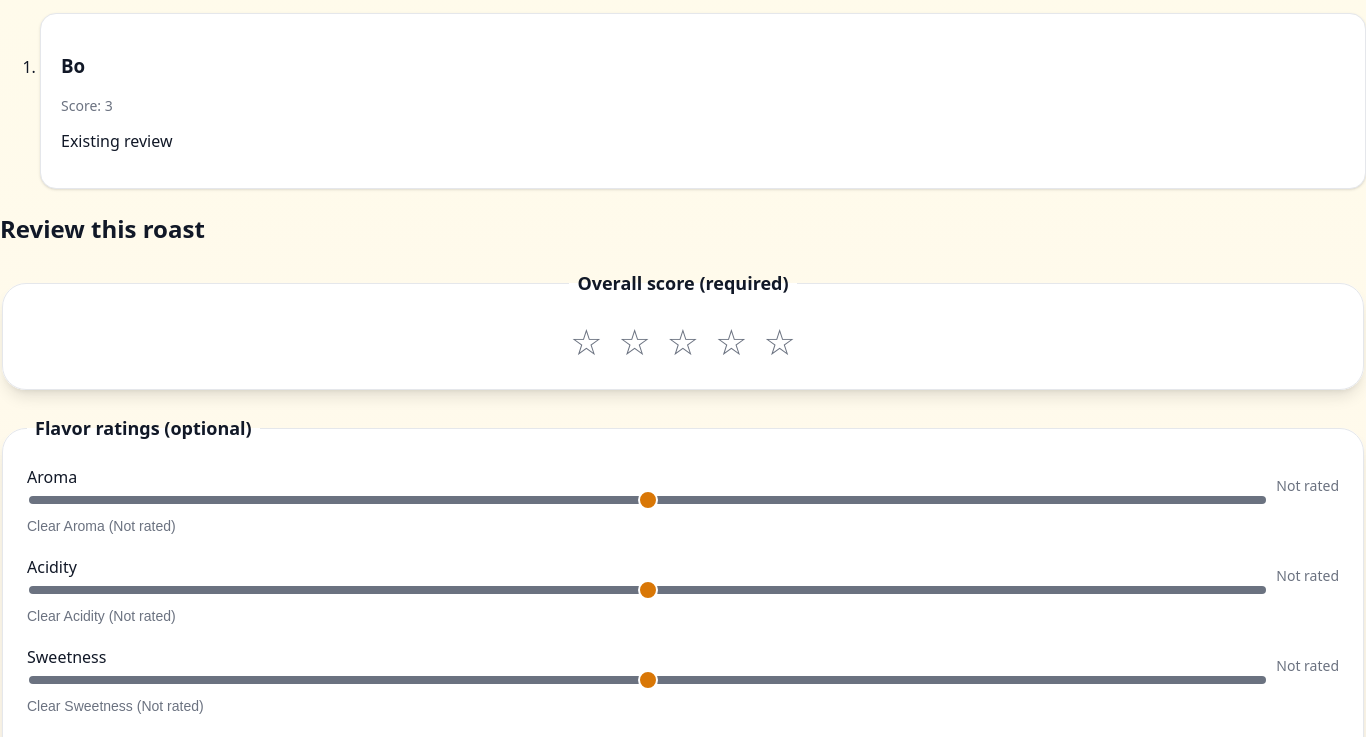
ReviewSection interactions › prepends a submitted review without reloading
Click the radio button named "5 out of 5 stars" at (780, 343), box [759,321,800,365]
(page scrolled)
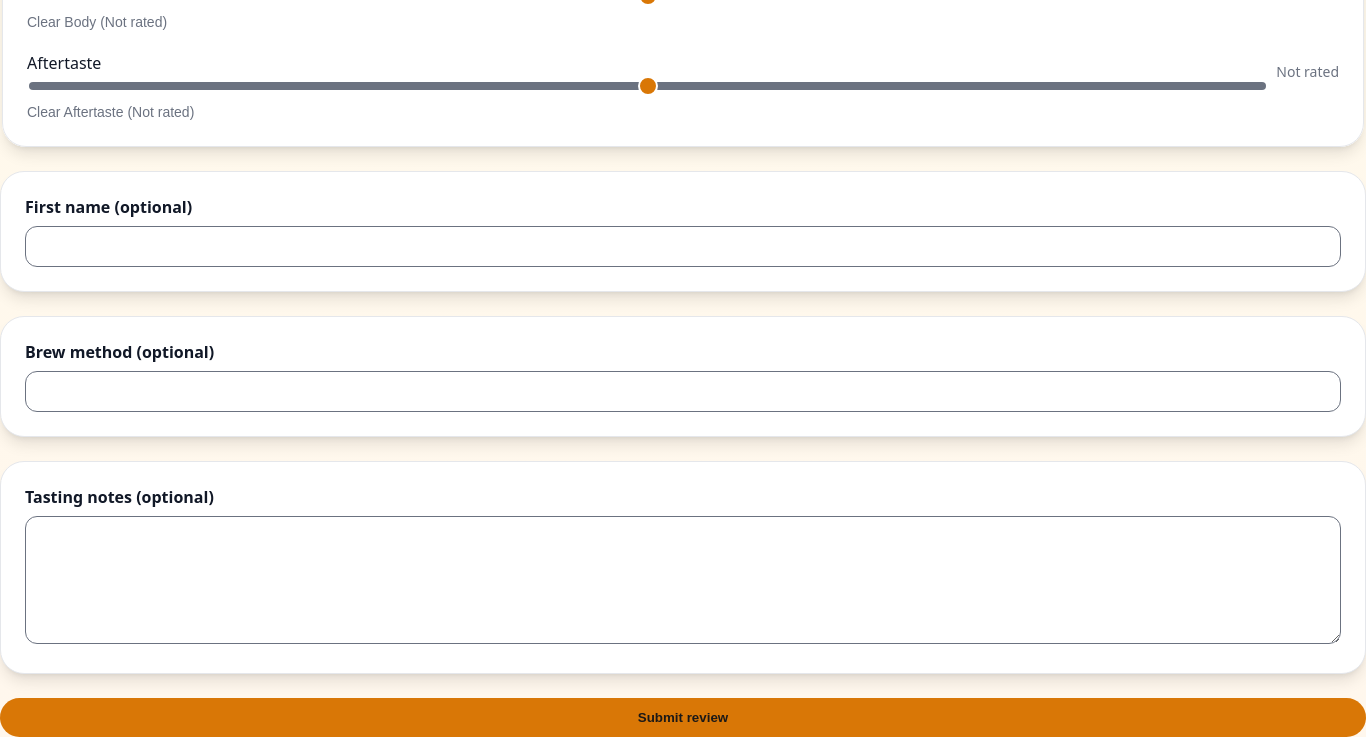
Type "New optimistic review" into the text box labelled "Tasting notes (optional)" at (683, 580), box [25,516,1341,644]
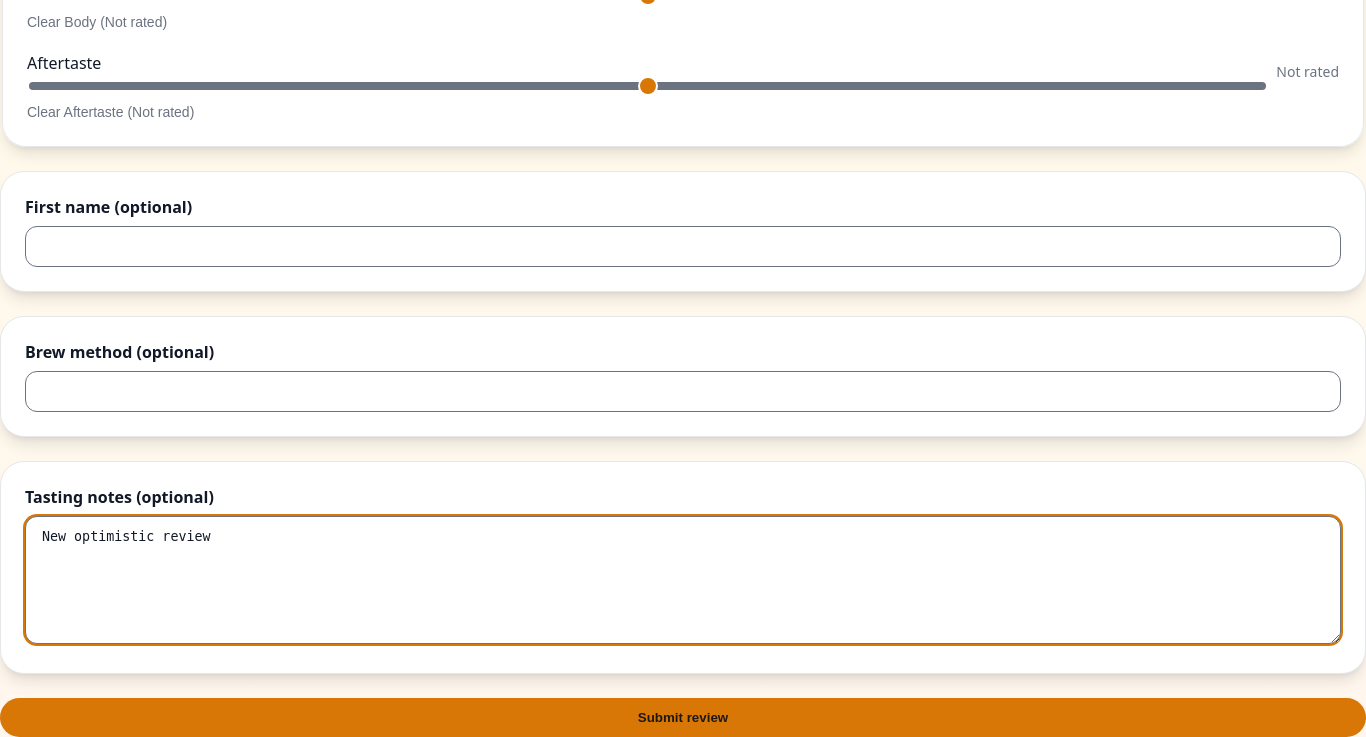
Click the button "Submit review" at (683, 718), box [0,698,1365,736]
(page scrolled)
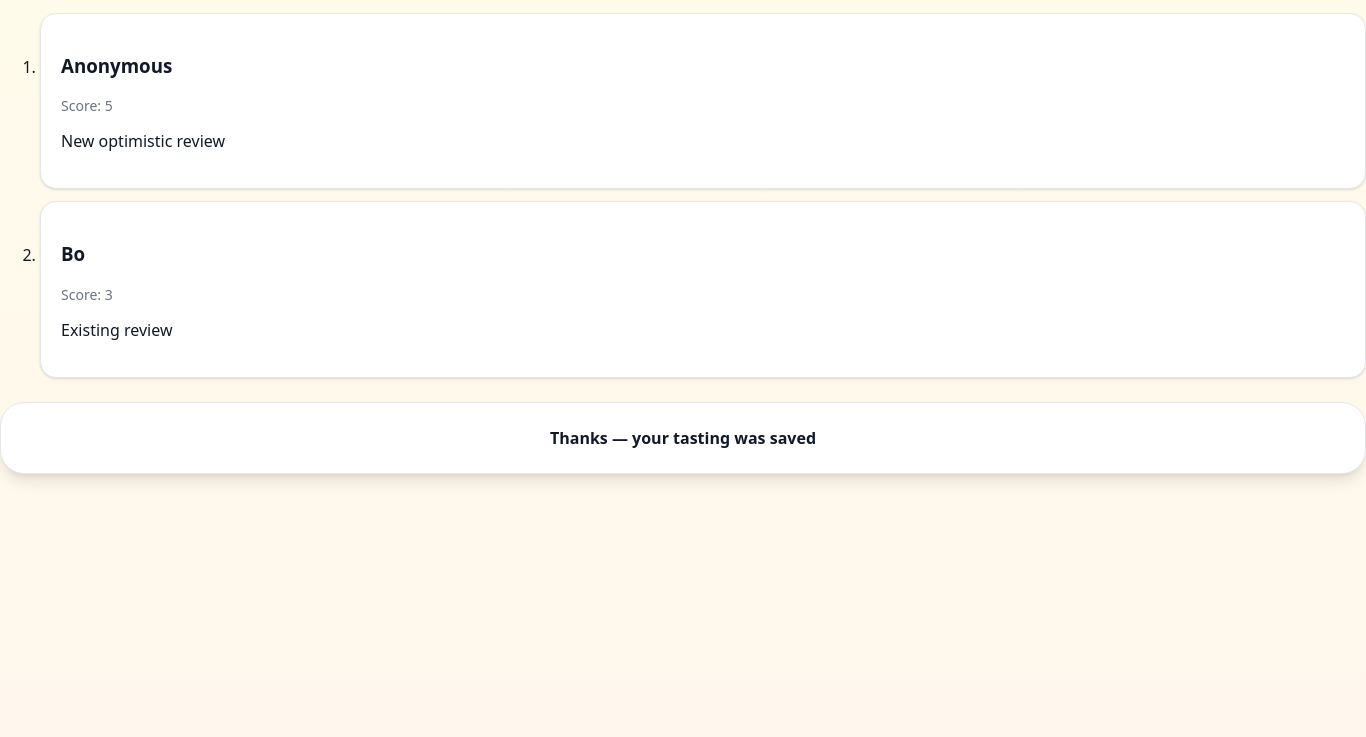
Check: the text "Existing review" is shown, box [61,319,172,341]
Check: the number of list items with test id "review-row" is 2, box [40,13,1365,189]; [40,201,1365,378]
Check: the text "New optimistic review" is shown, box [61,130,225,152]
